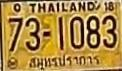0: (70, 16, 83, 48)
1: (58, 16, 63, 50)
3: (25, 17, 39, 50), (102, 14, 116, 47)
7: (8, 17, 22, 51)
8: (86, 15, 99, 48)
SPK: (27, 54, 100, 71)
